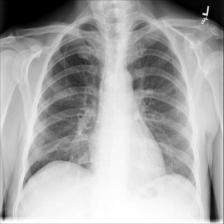normal: (18, 14, 200, 196)
